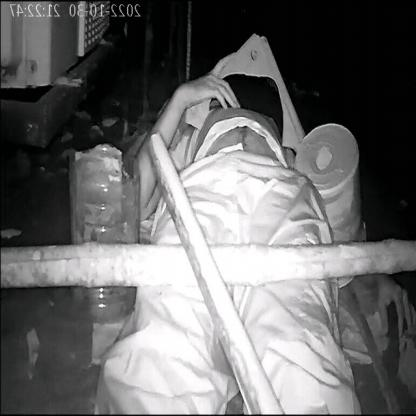hand: (150, 48, 244, 154), (357, 266, 416, 357)
